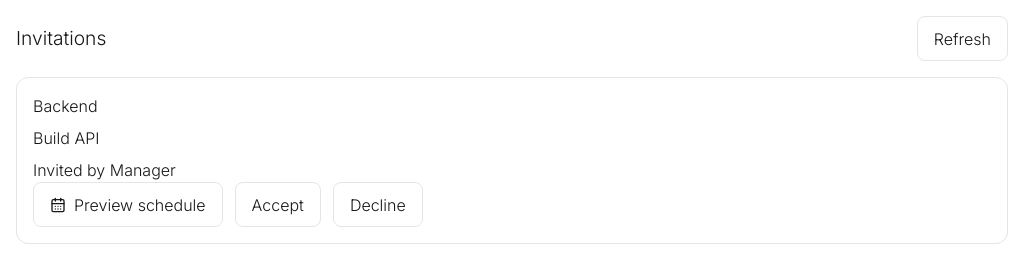
Scenario: TileShareInvitations › does not automatically retry an uncertain response or leave acceptance enabled
Expected: the heading "Build API" is shown, [33,128,99,148]
Click the button "Decline" at x=378, y=205, box [333,182,423,227]
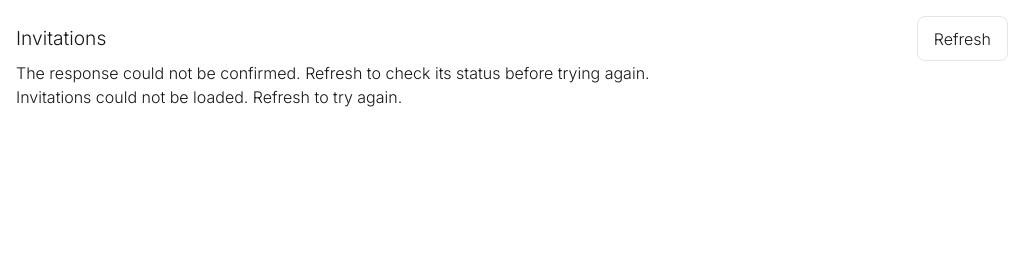
Result: the text "response could not be confirmed" is shown at [16,63,650,83]
Result: the button "Accept" is gone
